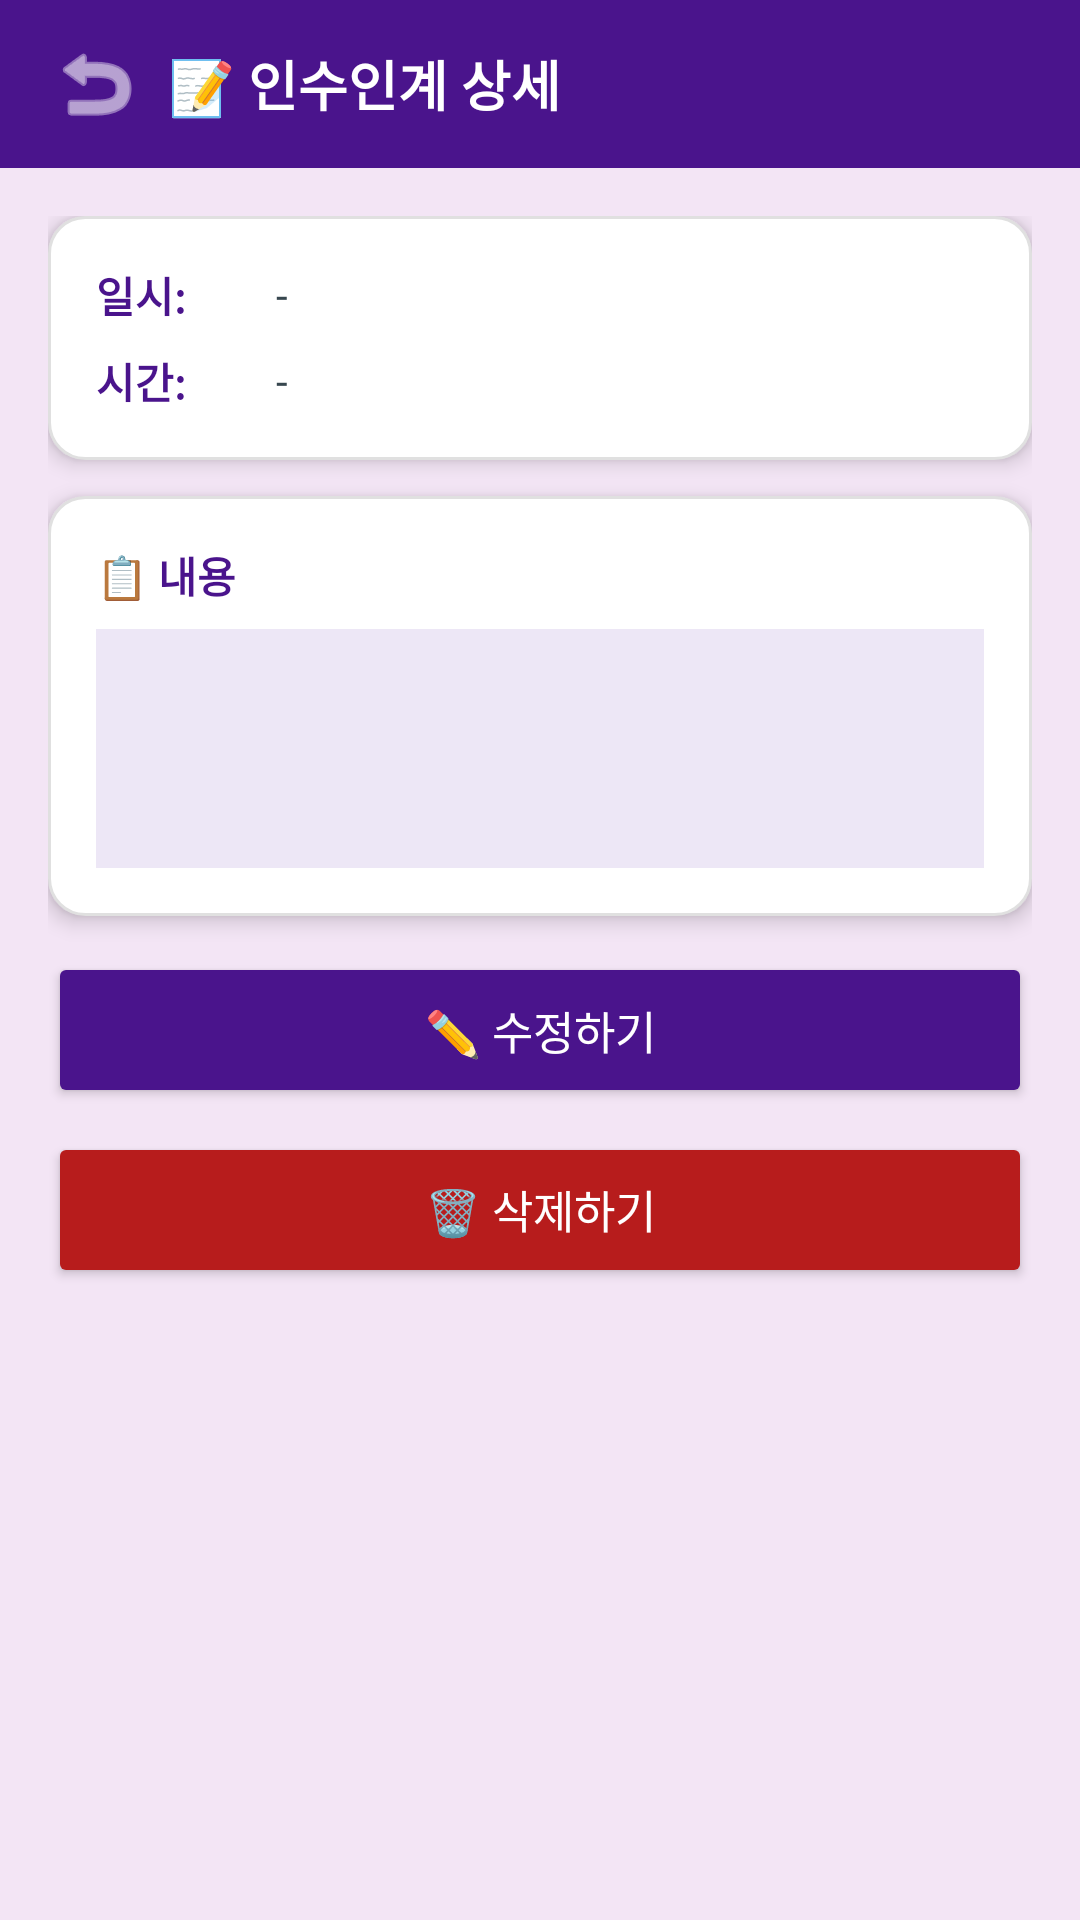

Named icons in this screenshot (1080*1920) and their centers, (x=x, y=y):
뒤로가기: (x=97, y=84)
